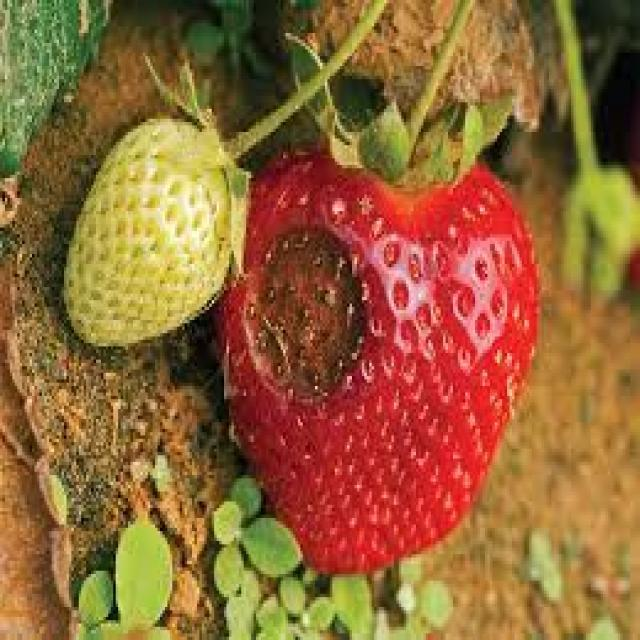Mancha negra Antracnosis: (240, 132, 532, 576)
